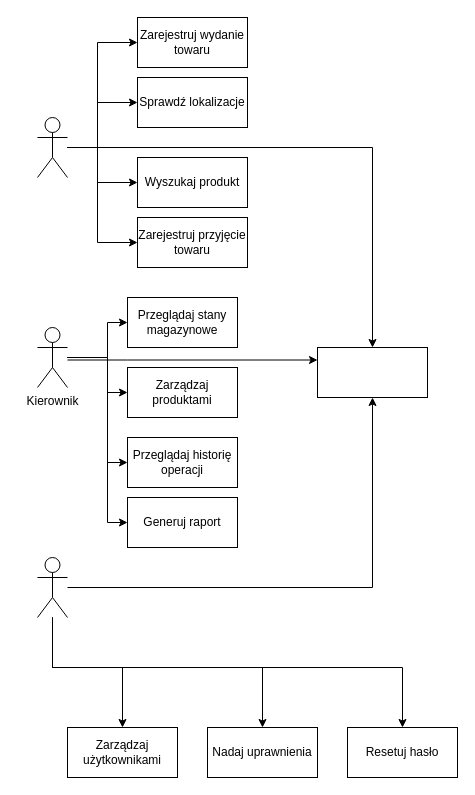
The diagram is 475 pixels wide and 795 high, and some of its shapes have lost their labels. The shapes that lost their labels are listed below. From the top down, each one's box as (x1, y1, x2, y2) in pixels, then its label:
(36, 116, 68, 178): Magazynier
(316, 346, 428, 398): Logowanie się
(36, 556, 68, 618): Administrator
